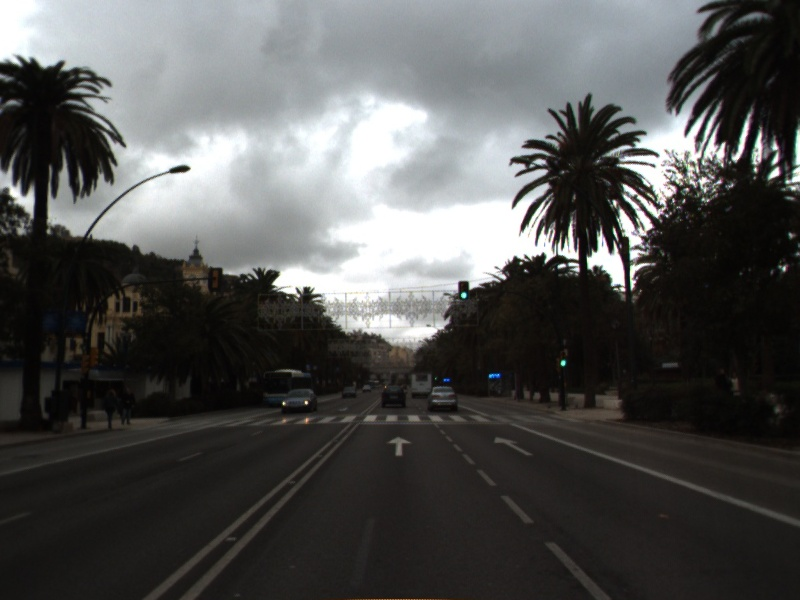STRAIGHT: (491, 434, 535, 458), (384, 434, 413, 458)
